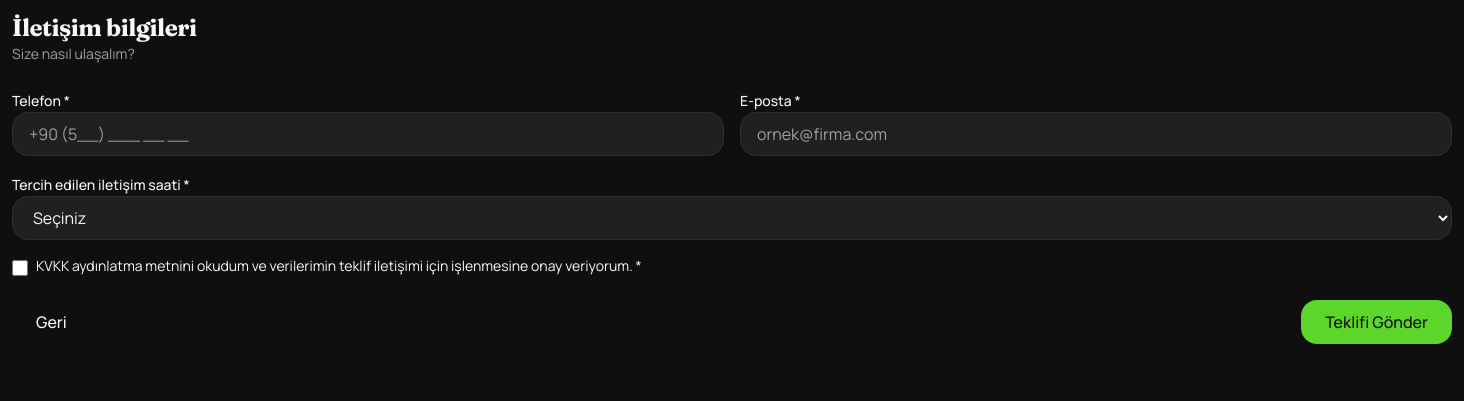
StepContact › shows kvkk error if not accepted
Type "+905551112233" into the field labelled "Telefon *".
click(368, 134); type("+905551112233")  # box [12,112,724,156]
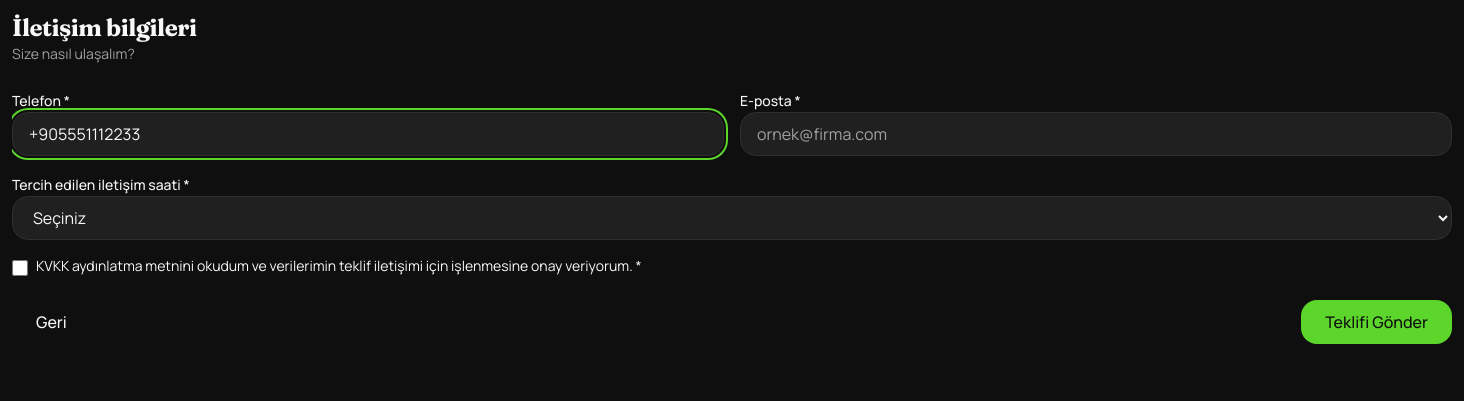
Type "a@b.com" into the field labelled "E-posta *".
click(1096, 134); type("a@b.com")  # box [740,112,1452,156]
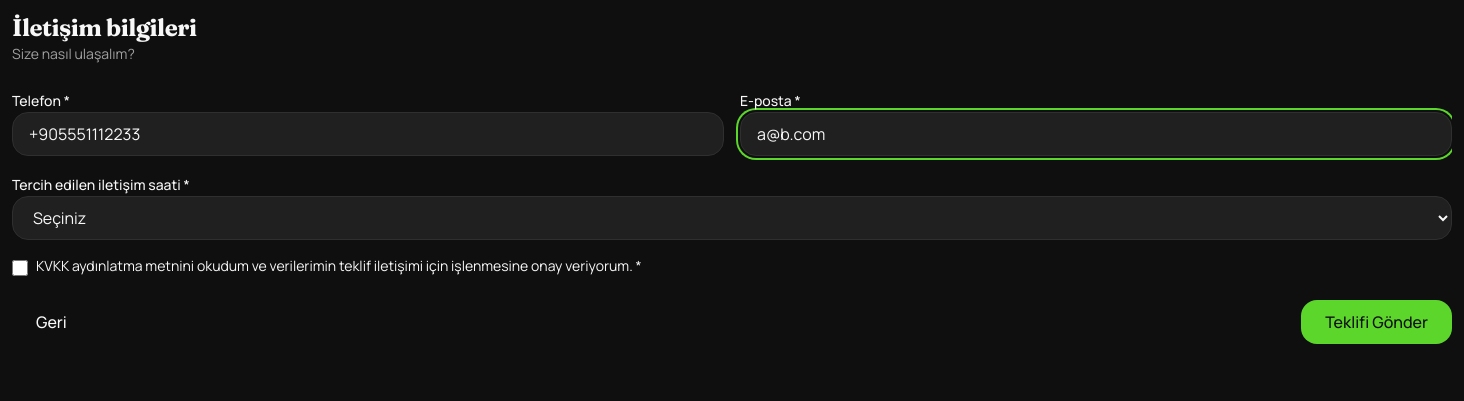
Select "Sabah (09–12)" in the dropdown labelled "Tercih edilen iletişim saati *" at coordinates (732, 218), box [12,196,1452,240]
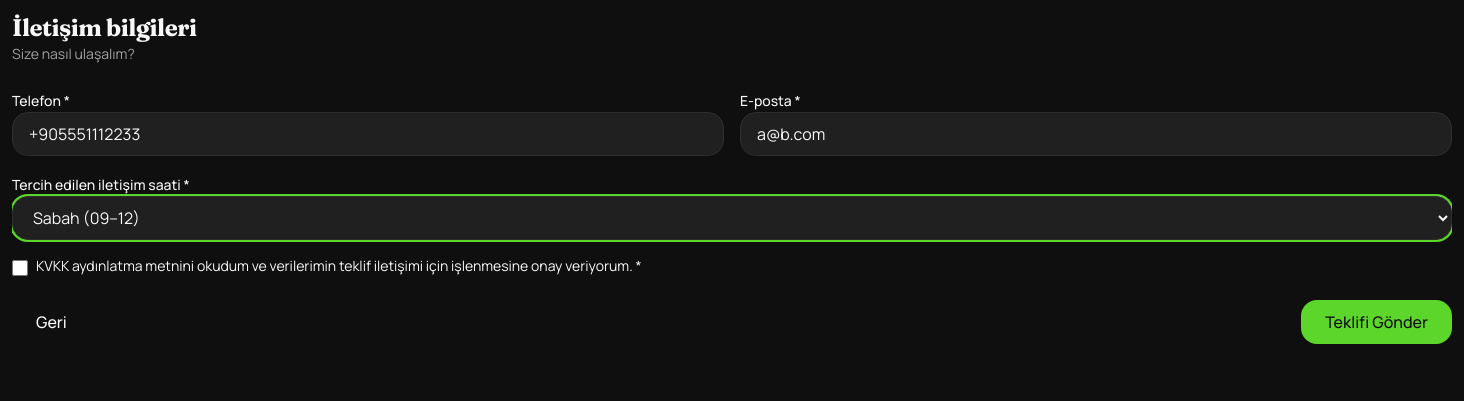
Click the button "Teklifi Gönder".
click(1377, 322)  # box [1301,300,1452,344]
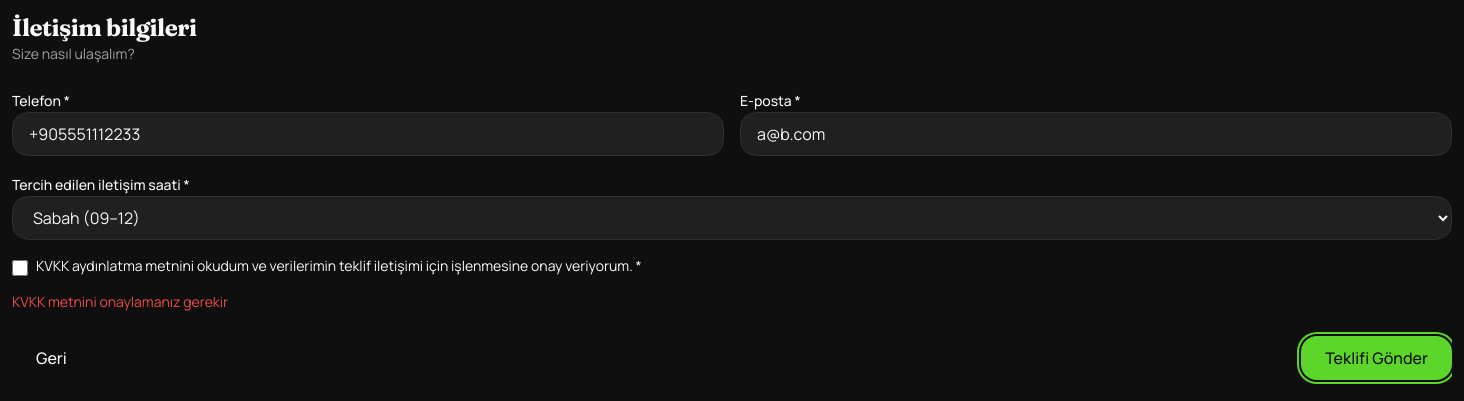
Expected: the text "KVKK metnini onaylamanız gerekir" is shown, [12,292,228,311]
